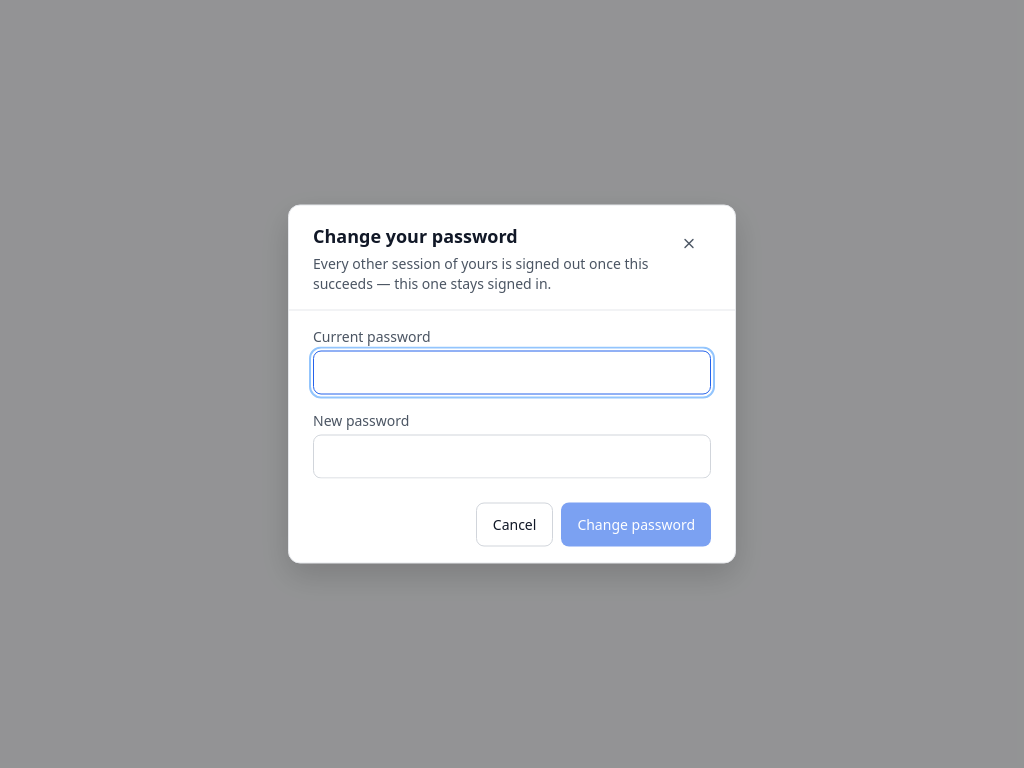
Scenario: ChangePasswordModal › rejects a wrong current password with the server's generic inline error, without clearing the form
The width and height of the screenshot is (1024, 768).
Step 1. Type "totally-wrong-password" into the password field labelled "Current password" → (512, 372), box [313,350,711,394]
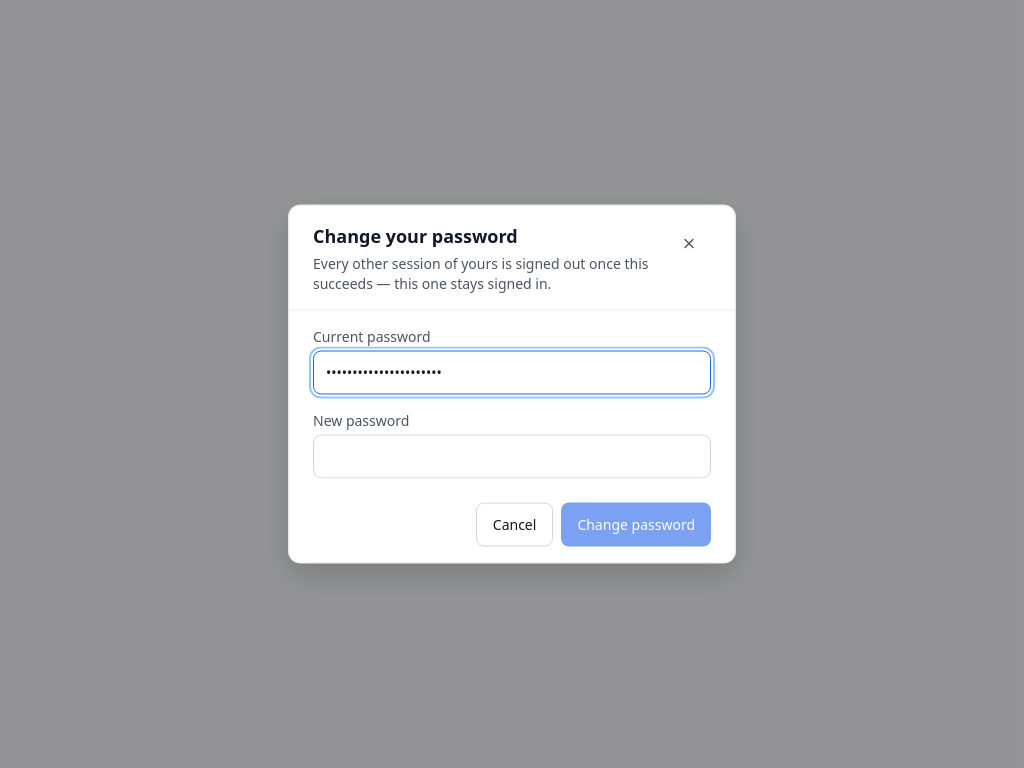
Step 2. Type "a brand new password entirely" into the password field labelled "New password" → (512, 456), box [313,434,711,478]
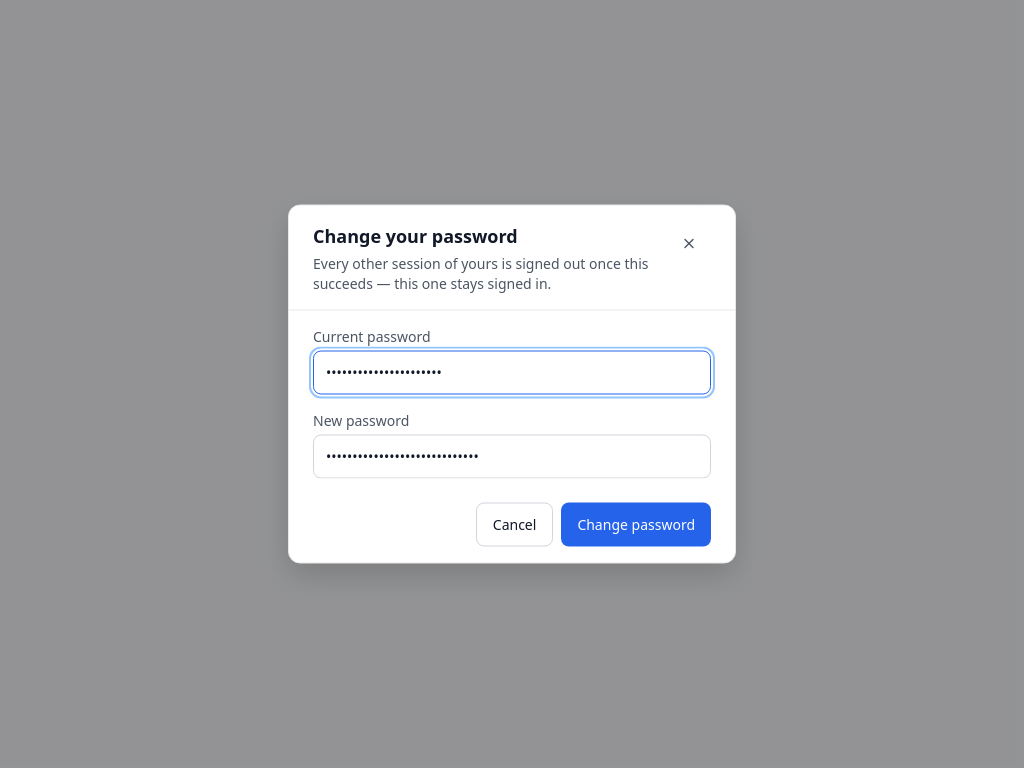
Step 3. Click the button "Change password" → click(636, 524), box [561,502,711,546]
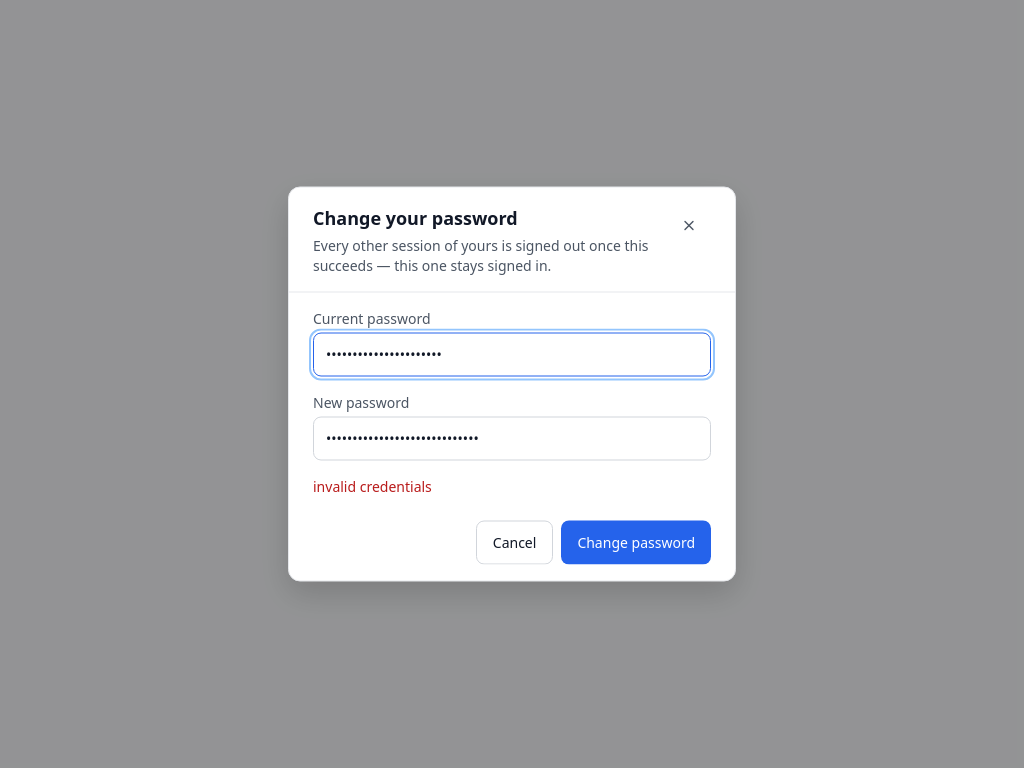
expect the text "invalid credentials" is shown: met, box [313,476,432,496]
